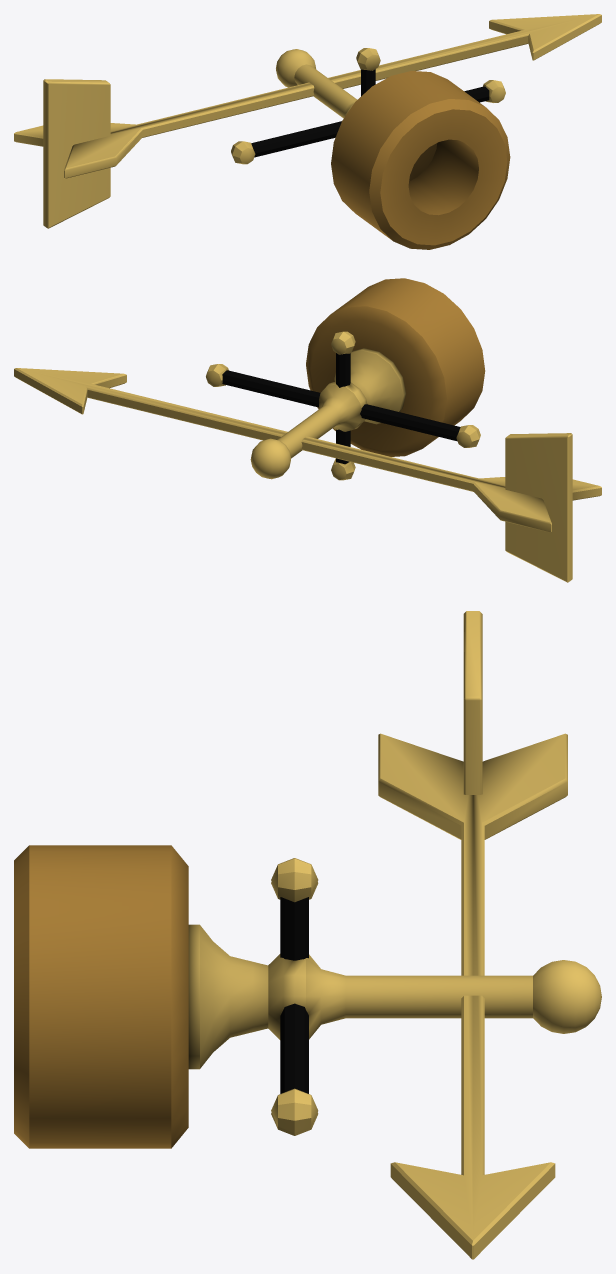
File: belfry_vane.glb
The picture shows the model from 3 angles, top to bottom: view 1: azimuth 30°, elevation 25°; view 2: azimuth 150°, elevation 25°; view 3: azimuth 270°, elevation 25°; orthographic projection. The views are drawn at different scales.
Visible parts, largest first — view 1: Belfry_Vane; view 2: Belfry_Vane; view 3: Belfry_Vane.
Part boxes in pixels (x1=…): Belfry_Vane: x1=14, y1=14, x2=601, y2=249; Belfry_Vane: x1=14, y1=278, x2=601, y2=582; Belfry_Vane: x1=14, y1=611, x2=601, y2=1259.
Size of the model in its own units: 0.0638 by 0.0161 by 0.031.
